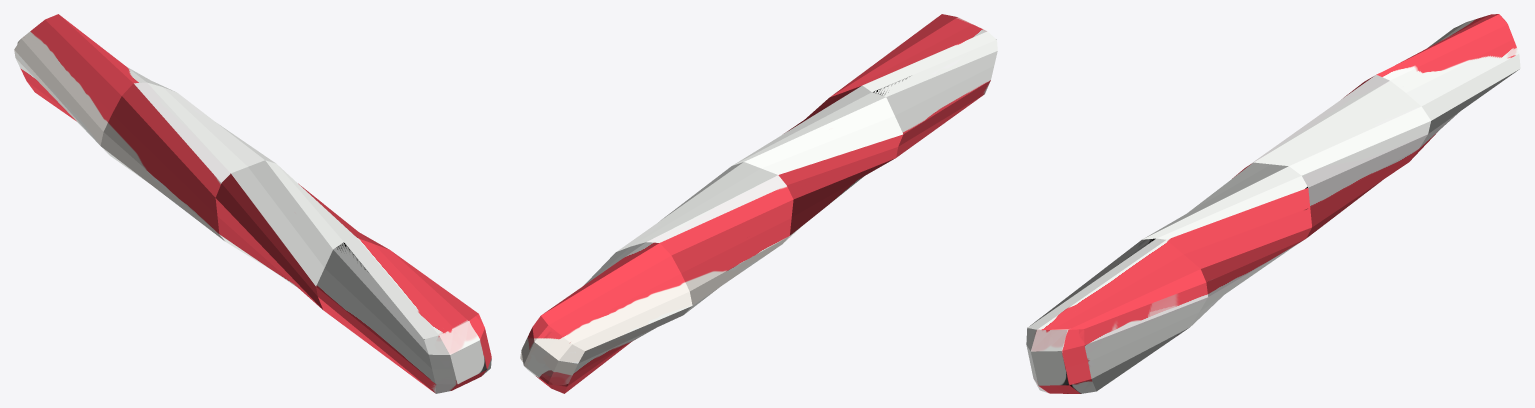
The model's file is peppermint.glb.
3 views of the same model, side by side, from view 1: azimuth 30°, elevation 25°; view 2: azimuth 150°, elevation 25°; view 3: azimuth 330°, elevation 25° (orthographic). The views are drawn at different scales.
Parts seen in each view (by area): view 1: Cube; view 2: Cube; view 3: Cube.
Part boxes in pixels (box(x1,y1,x2,y2)): Cube: box(14, 14, 491, 393); Cube: box(520, 14, 997, 393); Cube: box(1026, 14, 1520, 393).
Size of the model in its own units: 1.52 by 1.46 by 13.29.
1 material, 1 textured.
